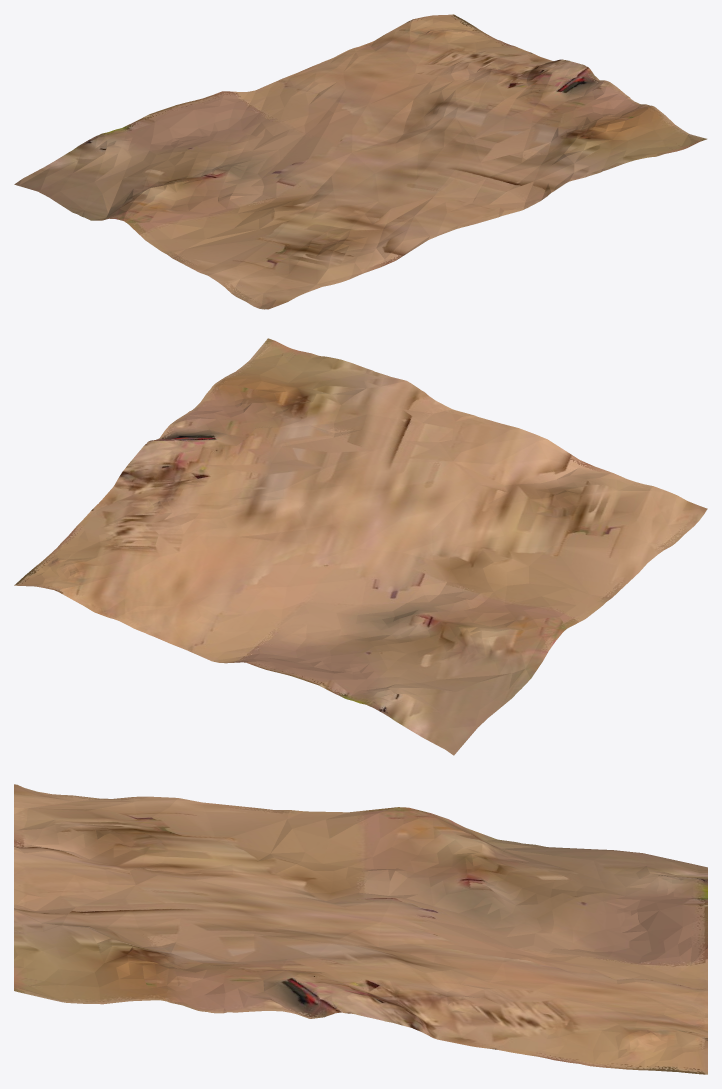
3 views of the same model, one above another, from view 1: azimuth 30°, elevation 25°; view 2: azimuth 150°, elevation 25°; view 3: azimuth 270°, elevation 25° (orthographic). The views are drawn at different scales.
Size of the model in its own units: 2.09 by 0.5638 by 2.09.
2 materials, 2 textured.
